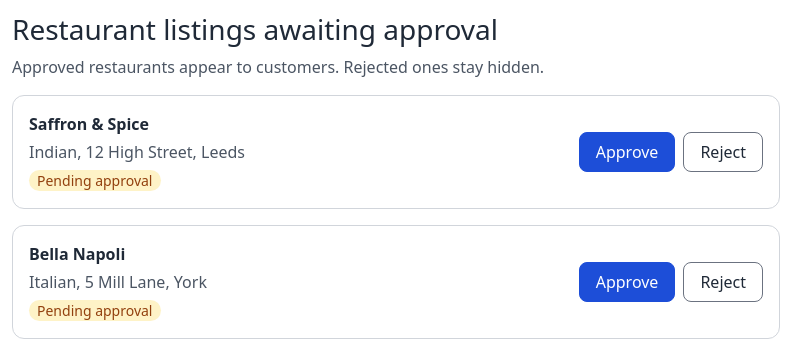
ListingApprovalsPage › shows "Admins only" when the API refuses (AC 7, 8)
This screenshot has width=797, height=356.
Click the button with aria-label "Approve Saffron & Spice": (627,152) [579, 132, 675, 172]
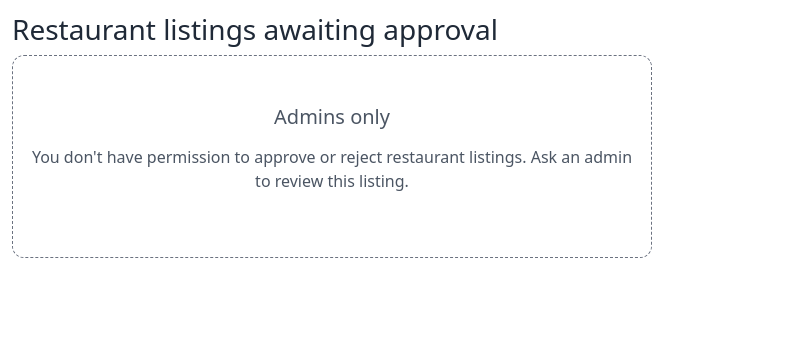
Check: the heading "Admins only" is shown, box [274, 104, 390, 129]
